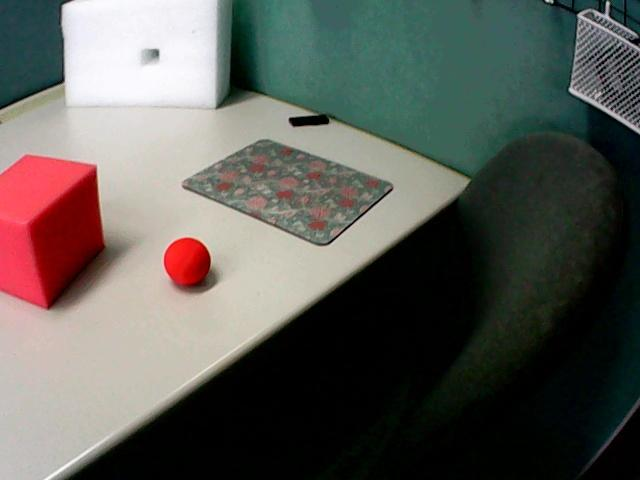red_block: (0, 155, 103, 307)
